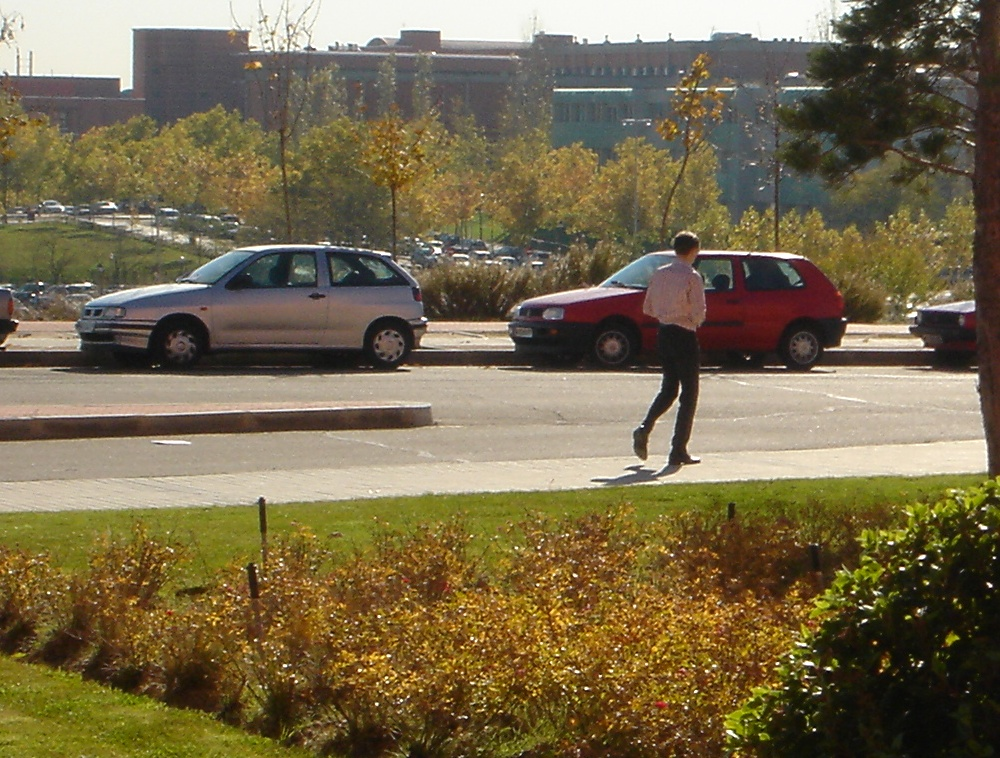person: (636, 228, 711, 468)
